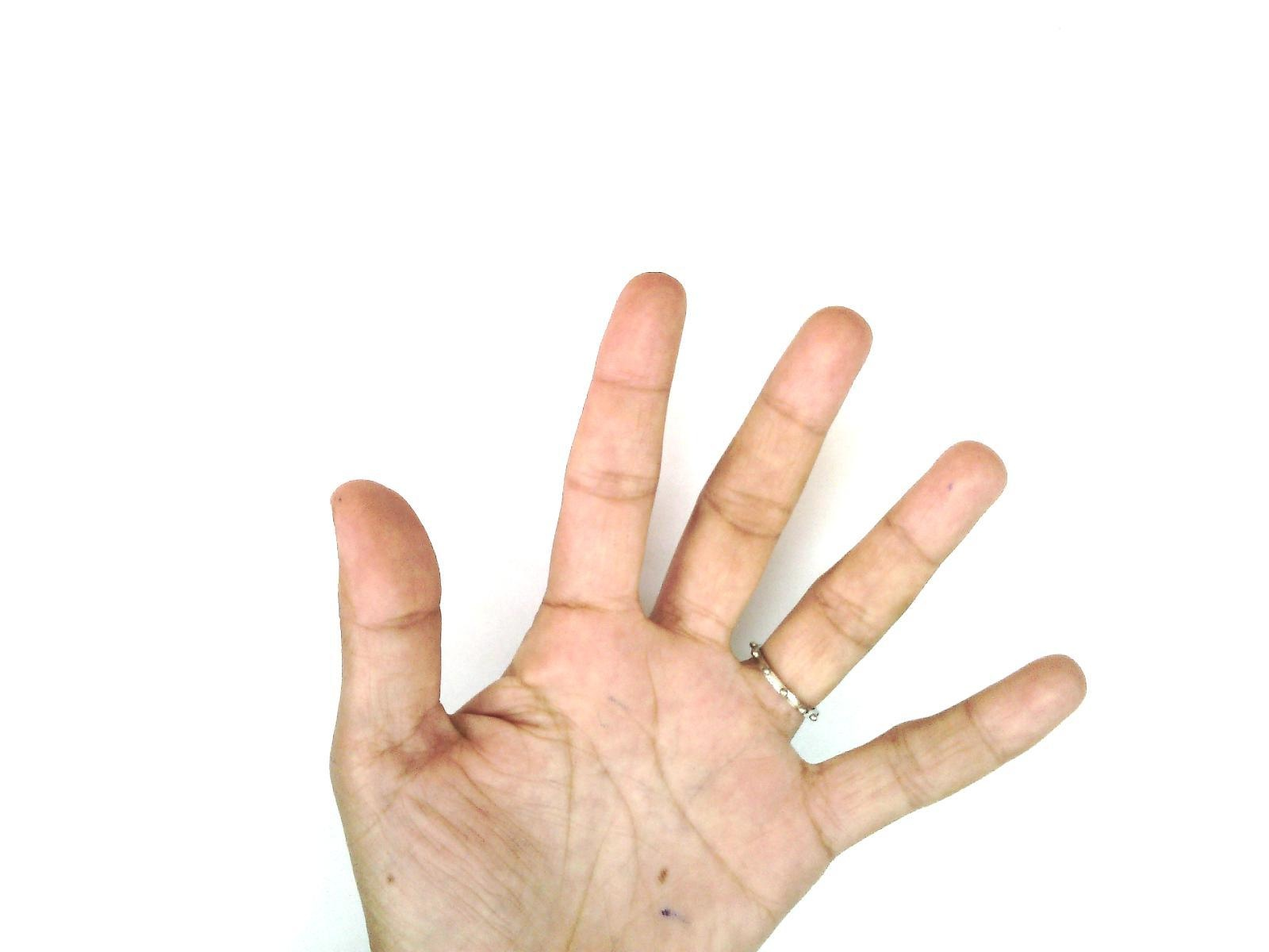open_palm: (324, 271, 1090, 951)
